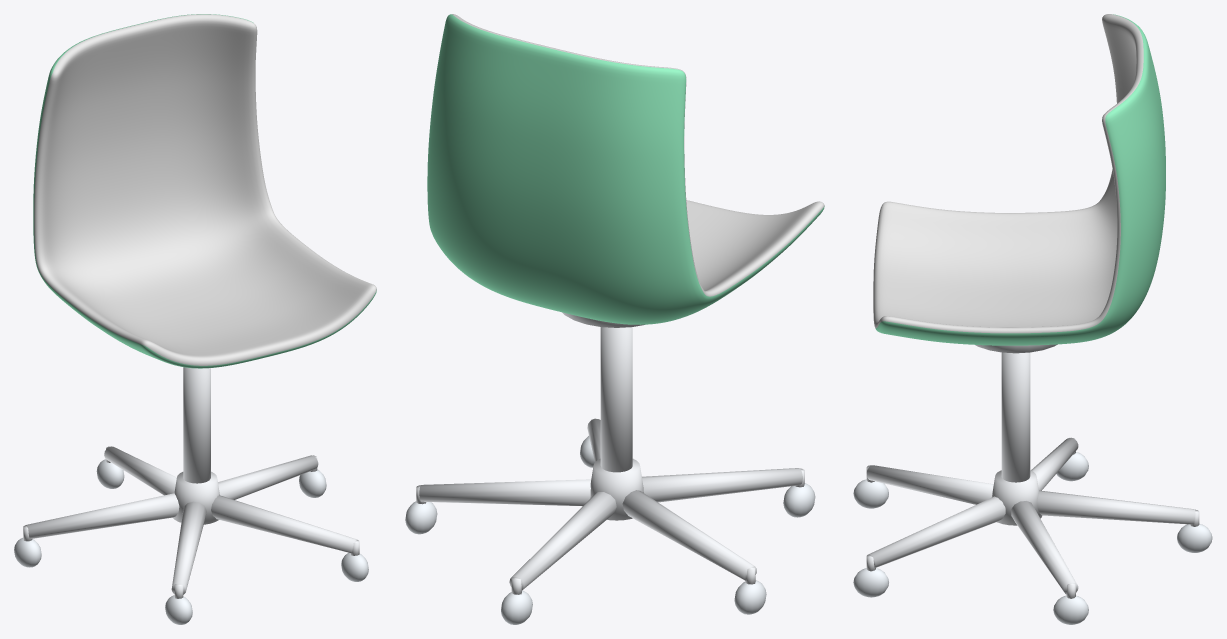
Rendered from office_chair.glb.
3 views of the same model, side by side, from view 1: azimuth 30°, elevation 25°; view 2: azimuth 150°, elevation 25°; view 3: azimuth 270°, elevation 25° (orthographic). The views are drawn at different scales.
Visible parts, largest first — view 1: OfficeChair; view 2: OfficeChair; view 3: OfficeChair.
Boxes of the visible parts, <box> form: OfficeChair: <box>14,14,376,624</box>; OfficeChair: <box>405,14,824,624</box>; OfficeChair: <box>853,14,1212,624</box>.
Size of the model in its own units: 0.6146 by 0.9194 by 0.6027.
